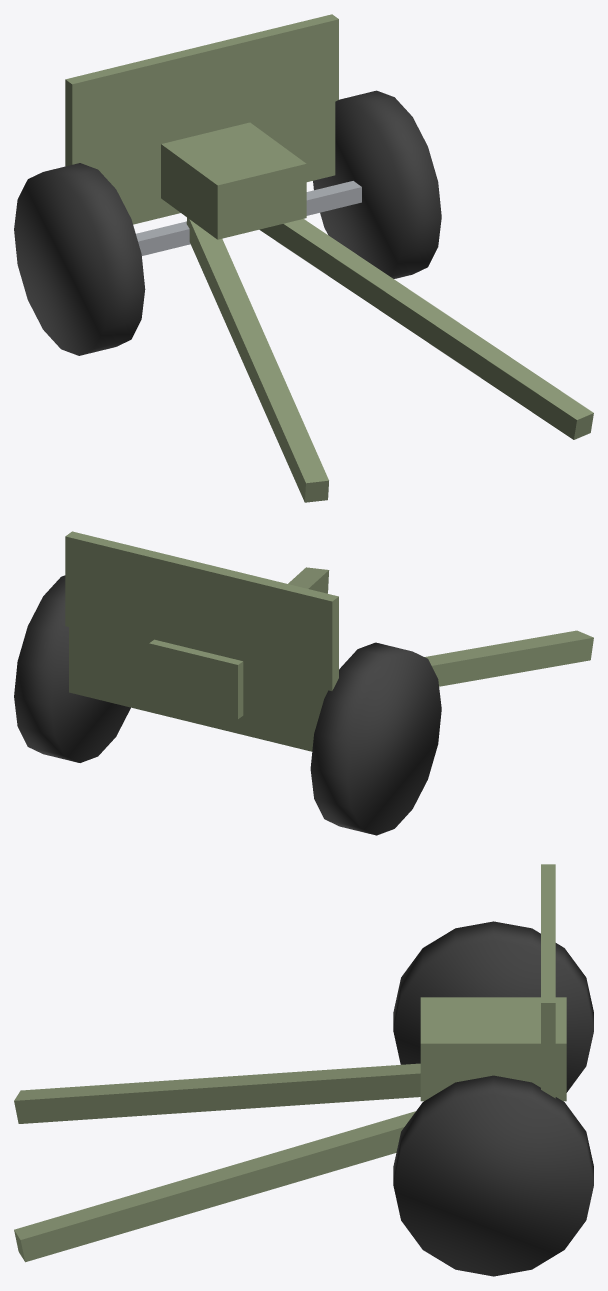
Rendered from howitzer.gltf.
3 views of the same model, one above another, from view 1: azimuth 30°, elevation 25°; view 2: azimuth 150°, elevation 25°; view 3: azimuth 270°, elevation 25° (orthographic). The views are drawn at different scales.
Visible parts, largest first — view 1: howitzer; view 2: howitzer; view 3: howitzer.
Part boxes in pixels (<box>): howitzer: <box>14,14,593,502</box>; howitzer: <box>14,531,593,835</box>; howitzer: <box>14,864,593,1276</box>.
Size of the model in its own units: 2.25 by 1.55 by 3.18.
